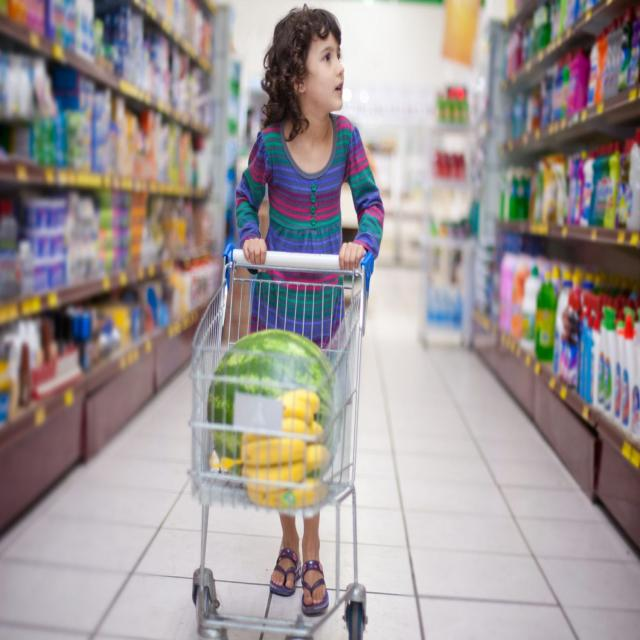Person: (235, 8, 384, 616)
